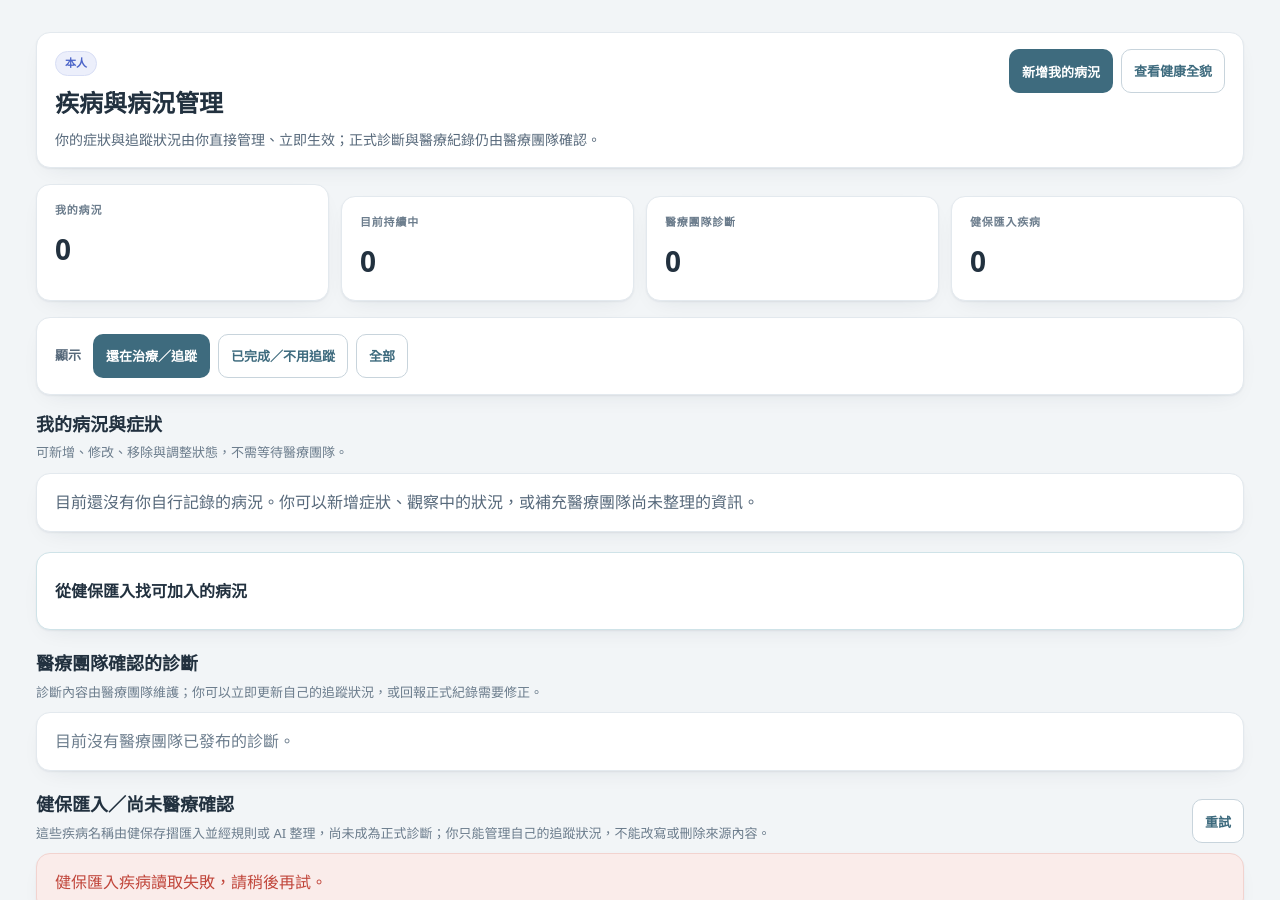
Test: ConditionsPage NHI disease management › announces an NHI load error and can retry without hiding the other sections
Expected: the message shows "健保匯入疾病讀取失敗", [55,871,327,893]
Click the button "重試". click: (1218, 821)
box: [1192,799,1244,843]
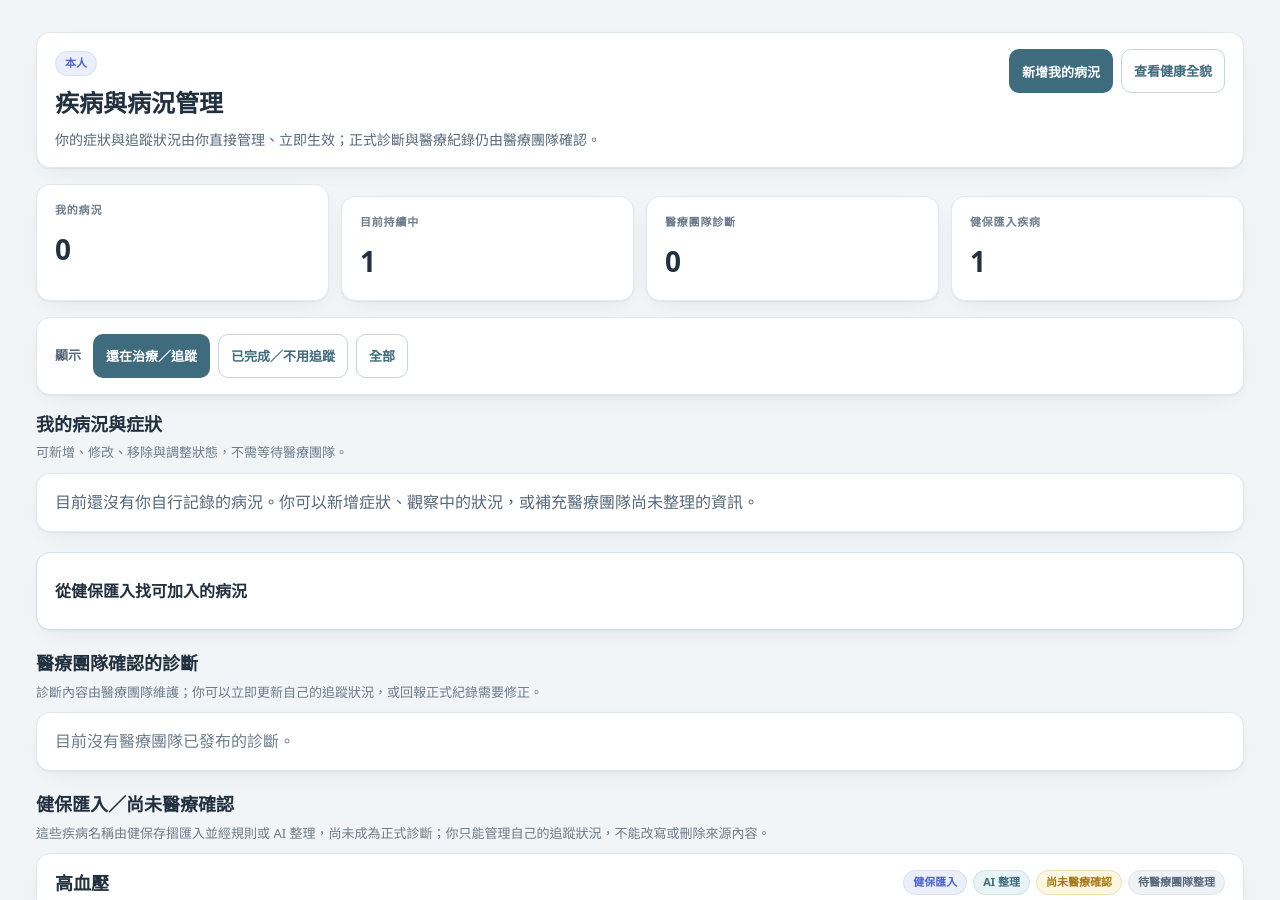
Expected: the text "高血壓" is shown, [55,871,109,895]
